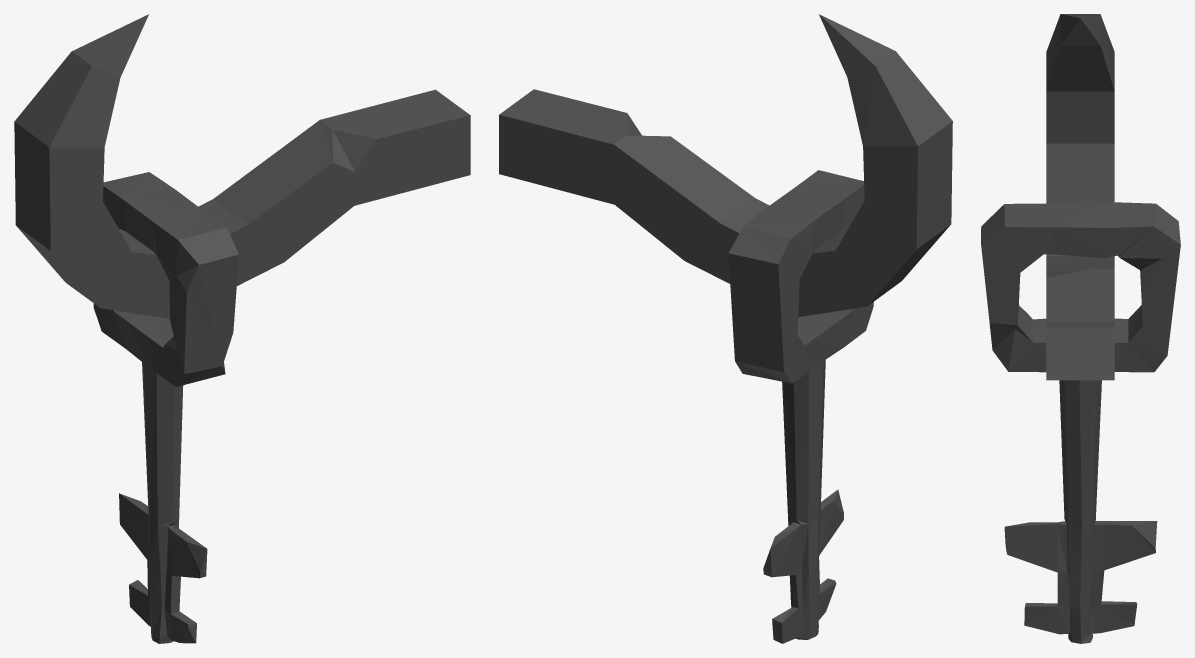
File: Hook_002.fbx
The picture shows the model from 3 angles, left to right: view 1: azimuth 30°, elevation 25°; view 2: azimuth 150°, elevation 25°; view 3: azimuth 270°, elevation 25°; orthographic projection. The views are drawn at different scales.
Parts seen in each view (by area): view 1: Hook_002; view 2: Hook_002; view 3: Hook_002.
Part boxes in pixels (box(x1,y1,x2,y2)): Hook_002: box(14, 14, 470, 643); Hook_002: box(499, 14, 952, 643); Hook_002: box(981, 14, 1180, 643).
Bounding box in the file's own units: 0.1356 × 0.1935 × 0.057.
